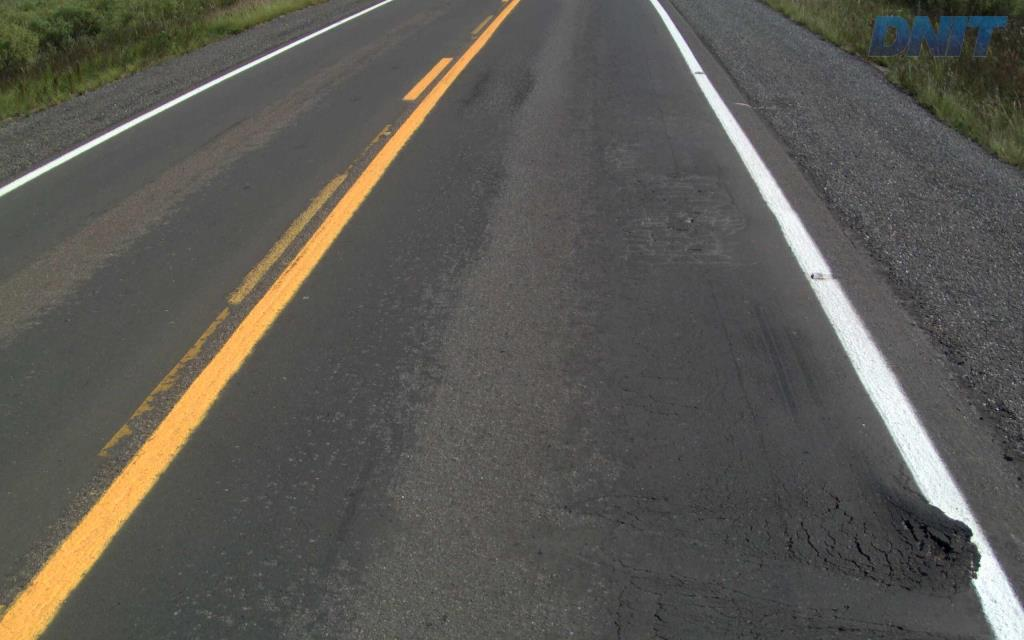crack: (913, 518, 952, 561)
